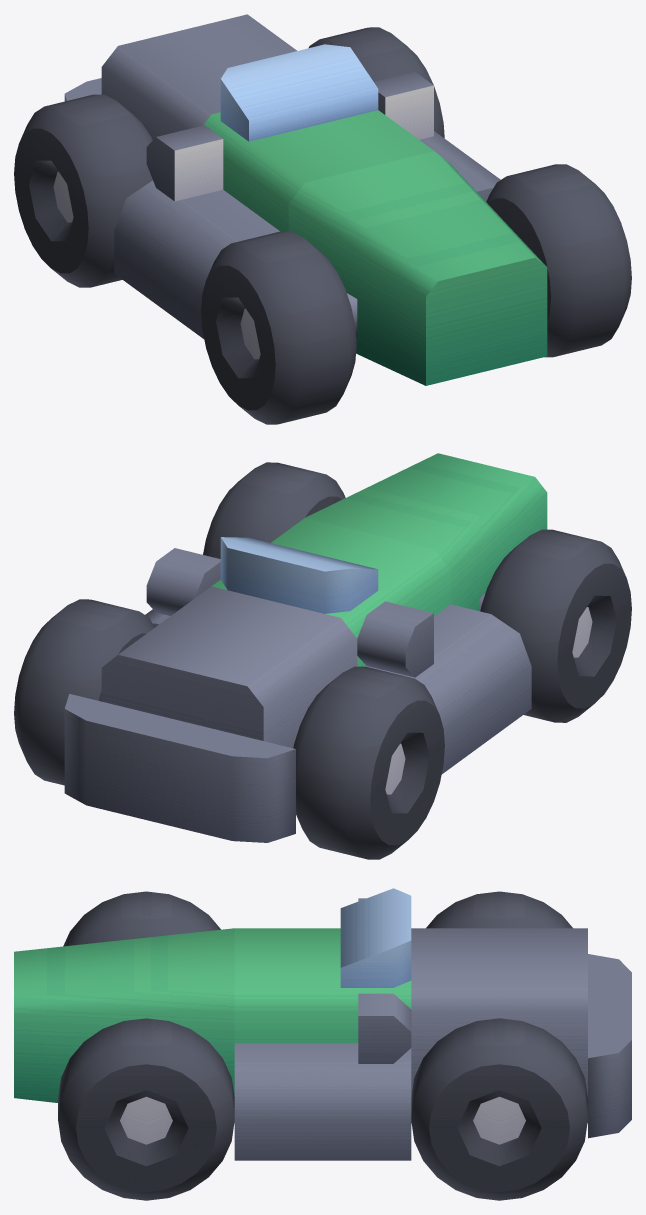
Rendered from car_green.glb.
3 views of the same model, one above another, from view 1: azimuth 30°, elevation 25°; view 2: azimuth 150°, elevation 25°; view 3: azimuth 270°, elevation 25° (orthographic). The views are drawn at different scales.
Visible parts, largest first — view 1: vehicle-vintage-racer, wheel-bl, wheel-fl, wheel-br, wheel-fr; view 2: vehicle-vintage-racer, wheel-fl, wheel-bl, wheel-fr, wheel-br; view 3: vehicle-vintage-racer, wheel-br, wheel-fr, wheel-bl, wheel-fl.
Boxes of the visible parts, bbox=[...] form: vehicle-vintage-racer: bbox=[64, 14, 547, 385]; wheel-bl: bbox=[201, 231, 356, 424]; wheel-fl: bbox=[14, 94, 152, 287]; wheel-br: bbox=[486, 164, 631, 357]; wheel-fr: bbox=[308, 27, 444, 138]; vehicle-vintage-racer: bbox=[64, 453, 547, 842]; wheel-fl: bbox=[293, 666, 444, 859]; wheel-bl: bbox=[480, 529, 631, 722]; wheel-fr: bbox=[14, 599, 154, 785]; wheel-br: bbox=[203, 462, 345, 558]; vehicle-vintage-racer: bbox=[14, 888, 631, 1160]; wheel-br: bbox=[58, 1018, 234, 1200]; wheel-fr: bbox=[411, 1018, 587, 1200]; wheel-bl: bbox=[63, 891, 220, 946]; wheel-fl: bbox=[426, 891, 572, 928].
Bounding box in the file's own units: 0.55 × 0.325 × 0.875.
Materials: 1 (1 with a texture image).
